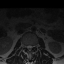CCS_normal: (28, 43, 30, 52)
LFS_stenosis: (32, 43, 34, 49)
LLS_normal: (30, 43, 32, 51)
RFS_normal: (24, 43, 26, 49)
RLS_normal: (26, 43, 28, 50)
